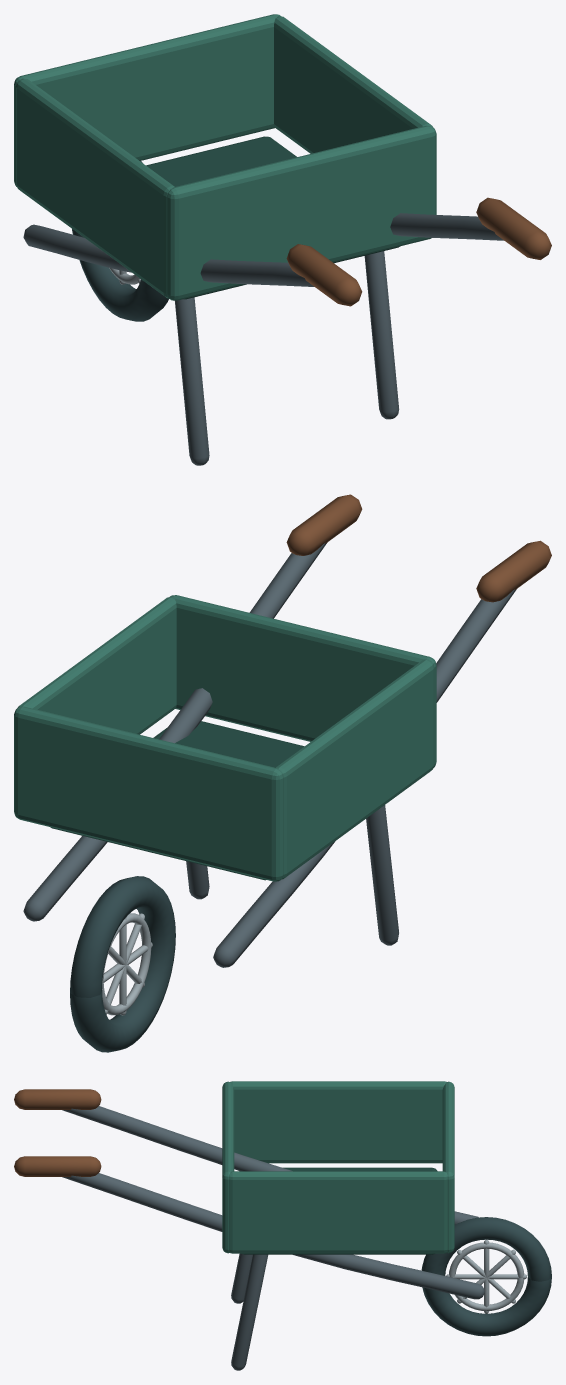
Rendered from wheelbarrow.glb.
3 renders of one model, top to bottom at view 1: azimuth 30°, elevation 25°; view 2: azimuth 150°, elevation 25°; view 3: azimuth 270°, elevation 25°, orthographic. The views are drawn at different scales.
Parts seen in each view (by area): view 1: Basin_end.001, Basin_end, Basin_side, Basin_side.001, Handle_frame, Basin_floor, Standing_leg, Standing_leg.001, Rubber_tyre, Hand_grip.001, Hand_grip, Handle_frame.001; view 2: Basin_end, Basin_end.001, Basin_side, Basin_side.001, Rubber_tyre, Handle_frame.001, Handle_frame, Basin_floor, Standing_leg, Hand_grip, Hand_grip.001, Spoked_rim (+1 smaller); view 3: Basin_side.001, Basin_side, Rubber_tyre, Handle_frame.001, Handle_frame, Standing_leg.001, Basin_end, Basin_end.001, Hand_grip.001, Hand_grip, Spoked_rim, Basin_floor (+1 smaller).
Part boxes in pixels (box(x1,y1,x2,y2)): Basin_end.001: box(167, 126, 436, 300); Basin_end: box(14, 14, 280, 186); Basin_side: box(16, 78, 174, 298); Basin_side.001: box(274, 16, 432, 153); Handle_frame: box(23, 224, 314, 286); Basin_floor: box(146, 136, 400, 299); Standing_leg: box(175, 297, 209, 465); Standing_leg.001: box(364, 251, 399, 419); Rubber_tyre: box(72, 161, 168, 321); Hand_grip.001: box(476, 197, 551, 259); Hand_grip: box(286, 244, 362, 306); Handle_frame.001: box(390, 213, 503, 240); Basin_end: box(14, 706, 283, 881); Basin_end.001: box(169, 595, 436, 767); Basin_side: box(276, 659, 434, 879); Basin_side.001: box(17, 597, 176, 734); Rubber_tyre: box(70, 876, 175, 1052); Handle_frame.001: box(23, 542, 327, 921); Handle_frame: box(213, 589, 516, 967); Basin_floor: box(50, 721, 304, 880); Standing_leg: box(366, 805, 398, 945); Hand_grip: box(476, 540, 551, 602); Hand_grip.001: box(286, 494, 362, 555); Spoked_rim: box(102, 913, 151, 1015); Basin_side.001: box(229, 1171, 447, 1253); Basin_side: box(230, 1081, 446, 1163); Rubber_tyre: box(421, 1217, 551, 1336); Handle_frame.001: box(62, 1173, 484, 1299); Handle_frame: box(62, 1106, 478, 1224); Standing_leg.001: box(231, 1254, 268, 1370); Basin_end: box(442, 1081, 454, 1253); Basin_end.001: box(222, 1081, 234, 1253); Hand_grip.001: box(14, 1156, 101, 1176); Hand_grip: box(14, 1089, 101, 1109); Spoked_rim: box(449, 1242, 524, 1310); Basin_floor: box(239, 1167, 437, 1254).
Size of the model in its own units: 0.655 by 0.6836 by 1.56.
